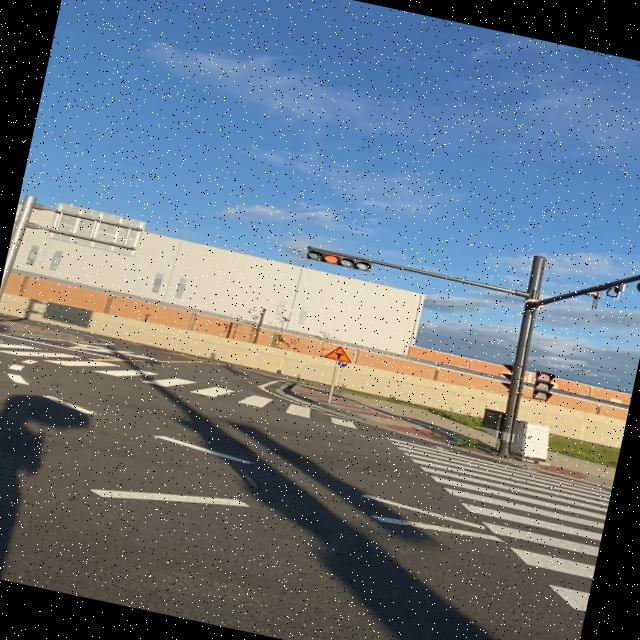yellow_light: (306, 249, 372, 272)
